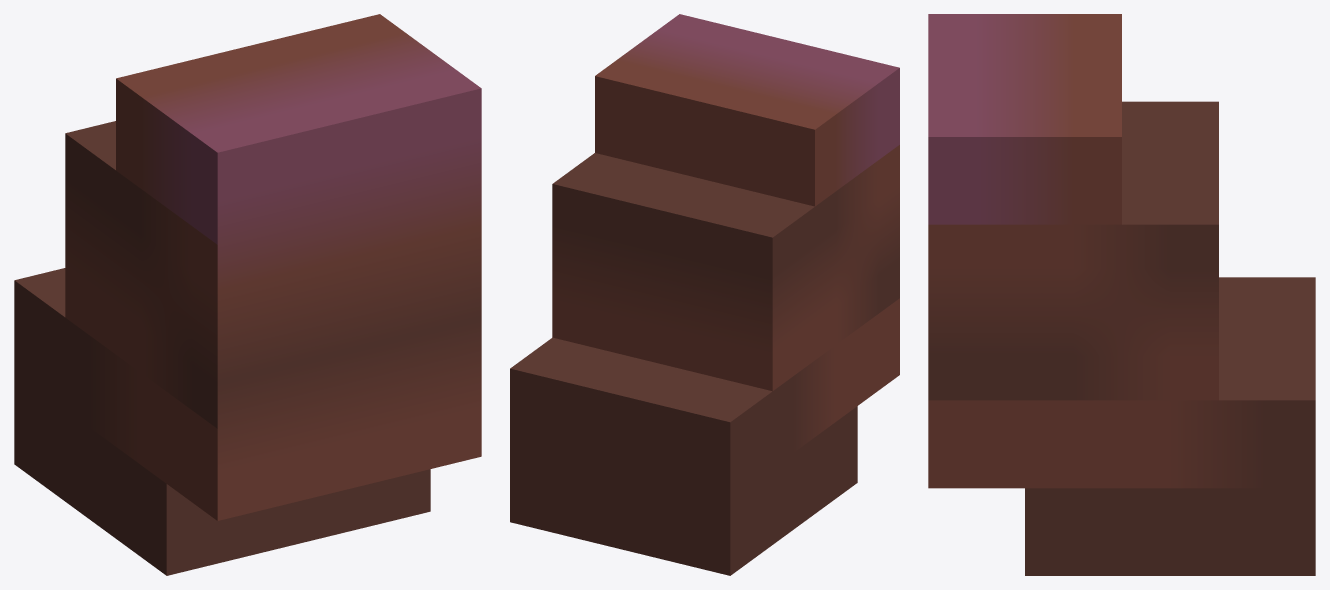
File: devil_hornR.fbx
3 renders of one model, left to right at view 1: azimuth 30°, elevation 25°; view 2: azimuth 150°, elevation 25°; view 3: azimuth 270°, elevation 25°, orthographic. The views are drawn at different scales.
Visible parts, largest first — view 1: devil_hornR; view 2: devil_hornR; view 3: devil_hornR.
Boxes of the visible parts, x1=… form: devil_hornR: x1=14, y1=14, x2=481, y2=575; devil_hornR: x1=510, y1=14, x2=899, y2=575; devil_hornR: x1=928, y1=14, x2=1315, y2=575.
Bounding box in the file's own units: 3 × 5 × 4.
Materials: 1 (1 with a texture image).
